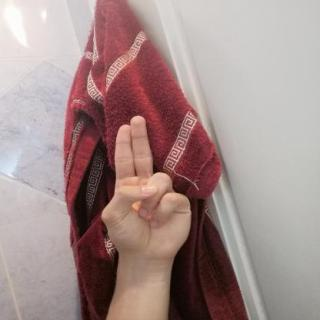TA: (91, 110, 199, 269)
